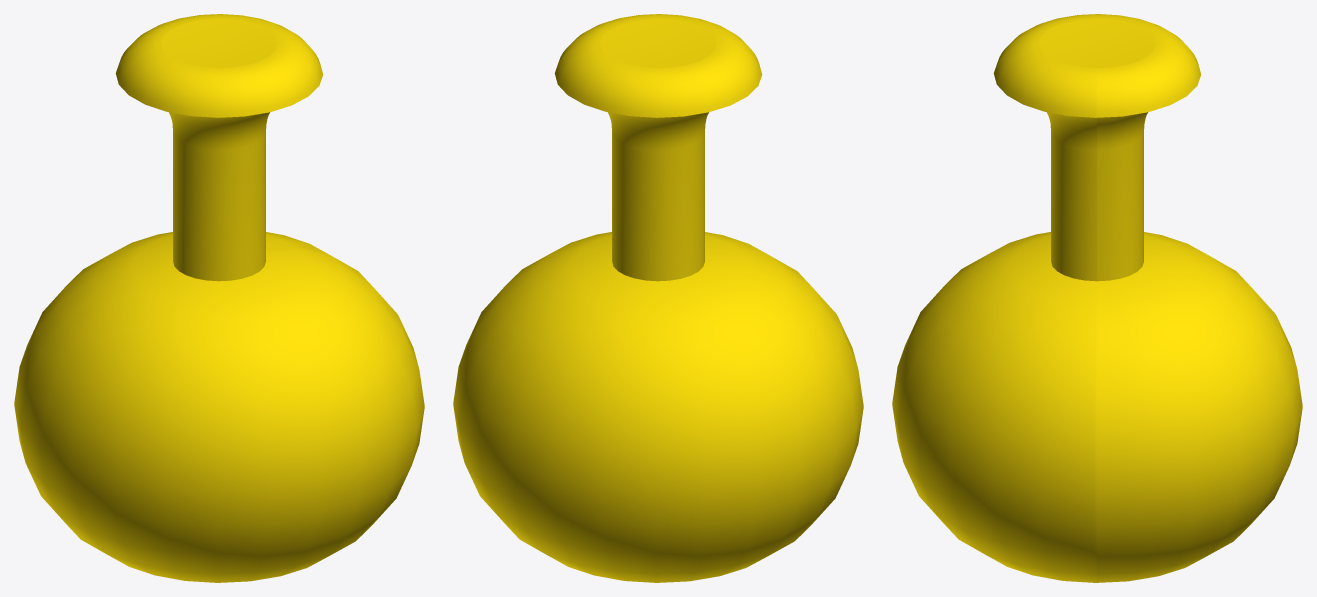
3 views of the same model, side by side, from view 1: azimuth 30°, elevation 25°; view 2: azimuth 150°, elevation 25°; view 3: azimuth 270°, elevation 25° (orthographic).
Parts seen in each view (by area): view 1: SketchUp.001; view 2: SketchUp.001; view 3: SketchUp.001.
Boxes of the visible parts, x1,y1,x2,y2 form: SketchUp.001: [14, 14, 424, 582]; SketchUp.001: [453, 14, 863, 582]; SketchUp.001: [892, 14, 1302, 582].
Size of the model in its own units: 1.61 by 2.19 by 1.61.
